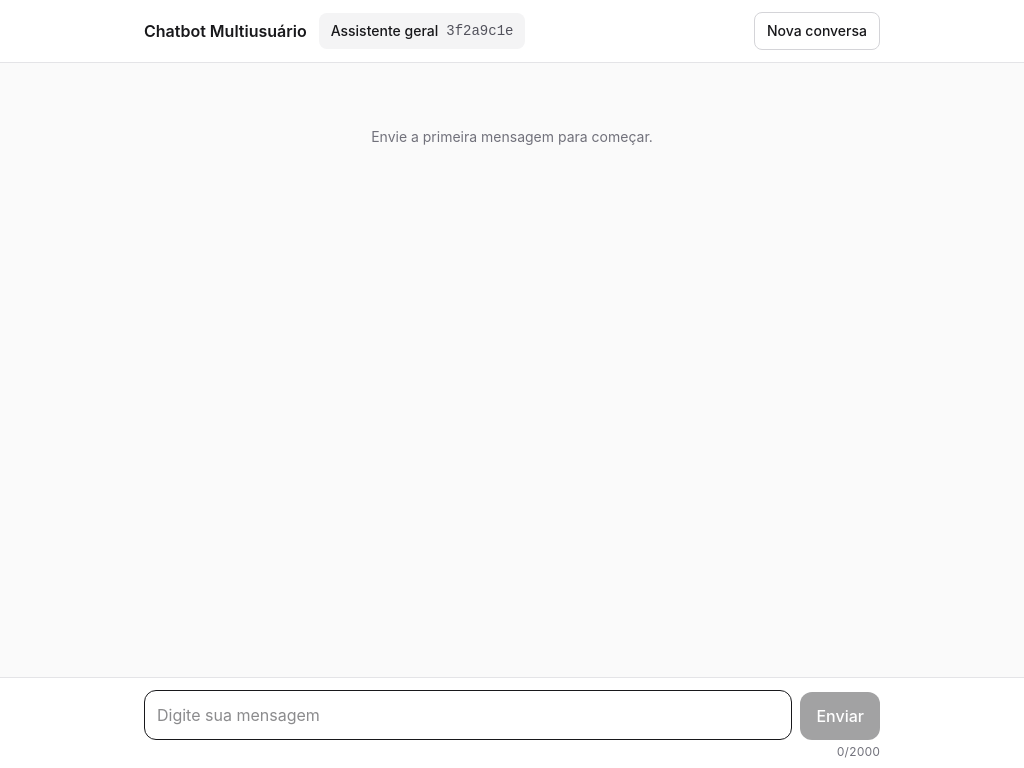
Test case: enviar mensagem › Enter envia
Type "Olá" into the text box labelled "mensagem". click: {"x": 468, "y": 715}
box: [144,690,792,740]
Then press Enter
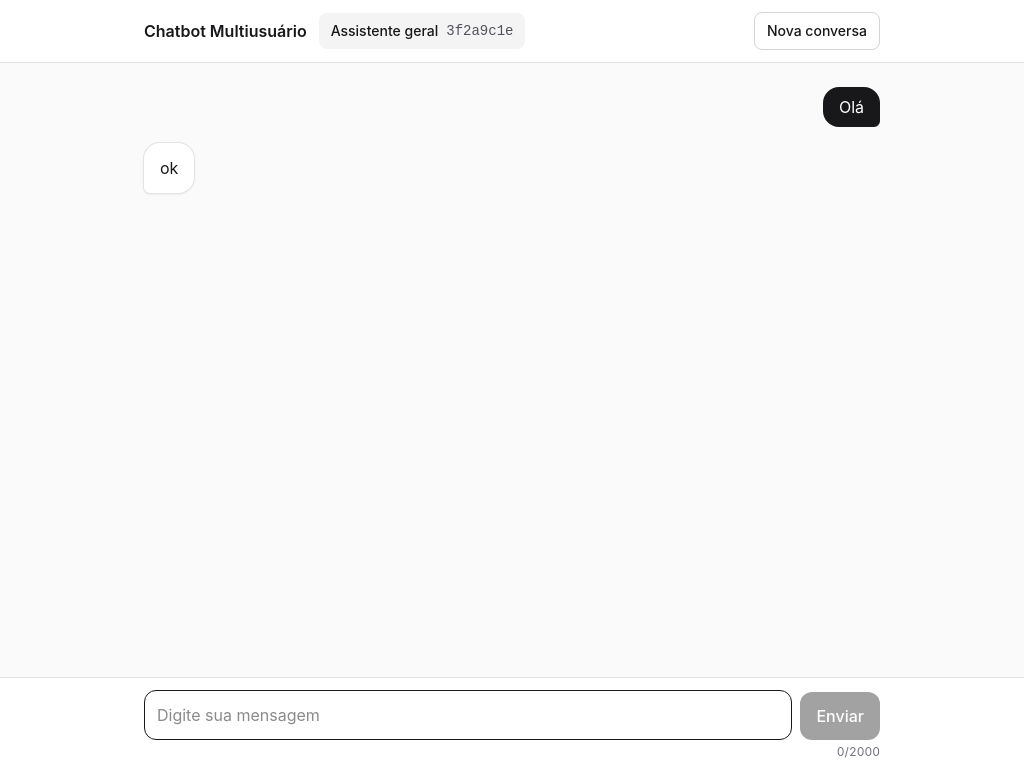
Now the text "ok" is shown, box [160,155,178,181]
